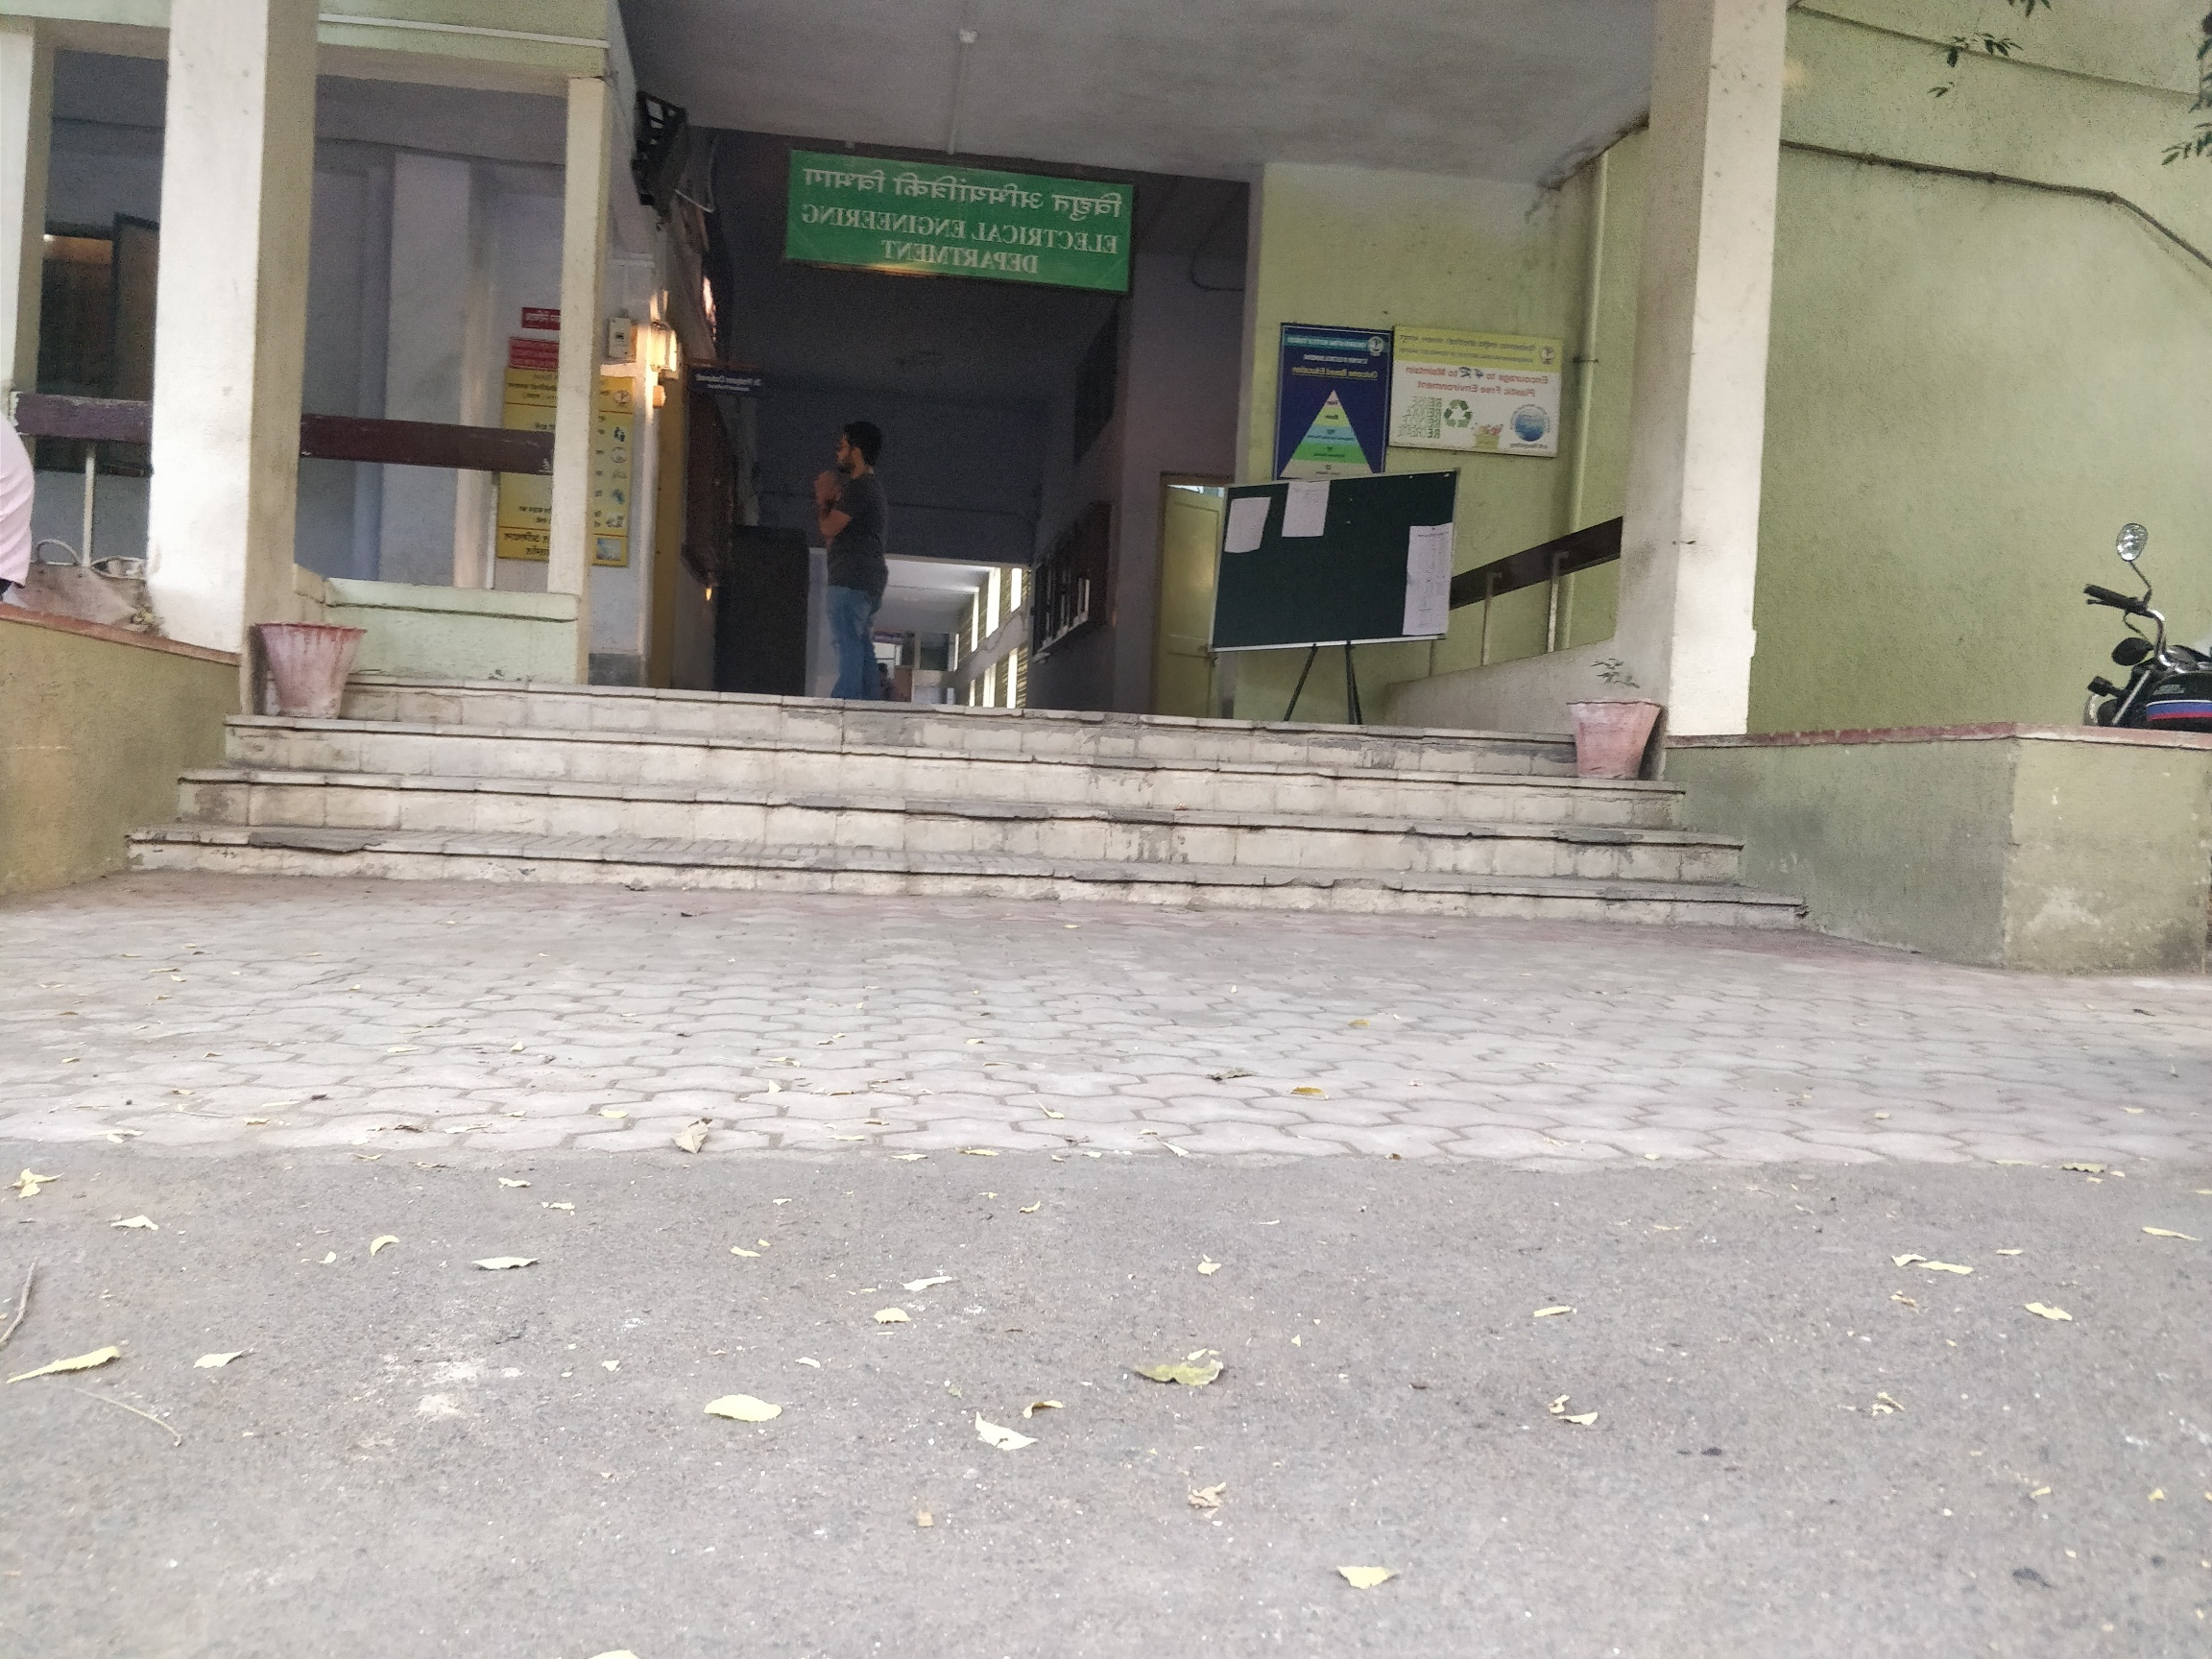stairs_up: (136, 638, 1749, 946)
